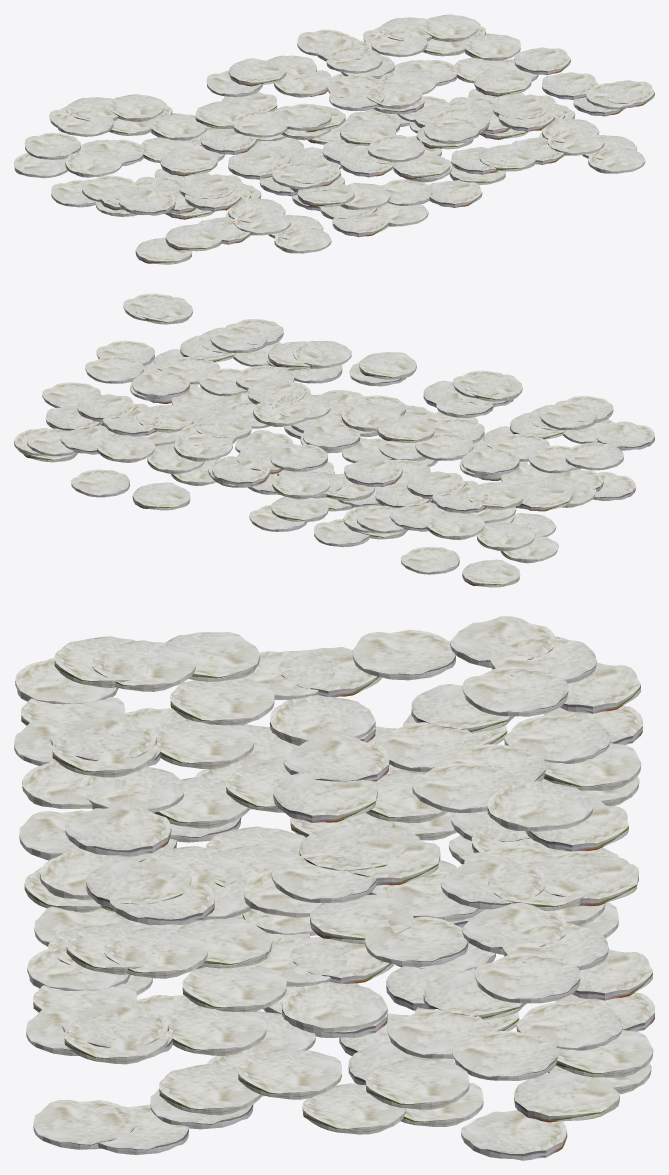
The model's file is mozzarella_hoop.glb.
The picture shows the model from 3 angles, top to bottom: view 1: azimuth 30°, elevation 25°; view 2: azimuth 150°, elevation 25°; view 3: azimuth 270°, elevation 25°; orthographic projection. The views are drawn at different scales.
Visible parts, largest first — view 1: Cylinder.082, Cylinder.124, Cylinder.077, Cylinder.129, Cylinder.009, Cylinder.068, Cylinder.020, Cylinder.075, Cylinder.013, Cylinder.080, Cylinder.120, Cylinder.022 (+79 smaller); view 2: Cylinder.129, Cylinder.028, Cylinder.009, Cylinder.077, Cylinder.067, Cylinder.095, Cylinder.068, Cylinder.096, Cylinder.020, Cylinder.086, Cylinder.087, Cylinder.085 (+77 smaller); view 3: Cylinder.020, Cylinder.068, Cylinder.129, Cylinder.122, Cylinder.130, Cylinder.022, Cylinder.124, Cylinder.120, Cylinder.114, Cylinder.082, Cylinder.029, Cylinder.003 (+92 smaller).
Boxes of the visible parts, box(x1,y1,x2,y2) form: Cylinder.082: box(65, 150, 122, 177); Cylinder.124: box(514, 47, 570, 75); Cylinder.077: box(118, 187, 175, 215); Cylinder.129: box(474, 68, 531, 96); Cylinder.009: box(160, 148, 217, 176); Cylinder.068: box(229, 58, 286, 86); Cylinder.020: box(367, 135, 424, 162); Cylinder.075: box(165, 224, 221, 251); Cylinder.013: box(233, 110, 289, 137); Cylinder.080: box(24, 132, 80, 159); Cylinder.120: box(464, 33, 520, 60); Cylinder.022: box(108, 94, 164, 121); Cylinder.129: box(132, 370, 189, 398); Cylinder.028: box(344, 459, 402, 486); Cylinder.009: box(462, 448, 519, 475); Cylinder.077: box(565, 442, 623, 470); Cylinder.067: box(272, 471, 330, 499); Cylinder.095: box(71, 469, 130, 497); Cylinder.068: box(270, 443, 327, 471); Cylinder.096: box(132, 482, 190, 510); Cylinder.020: box(359, 352, 416, 379); Cylinder.086: box(462, 559, 520, 587); Cylinder.087: box(400, 547, 459, 574); Cylinder.085: box(426, 512, 484, 539); Cylinder.020: box(65, 804, 171, 856); Cylinder.068: box(487, 781, 593, 831); Cylinder.129: box(282, 982, 387, 1032); Cylinder.122: box(474, 953, 580, 1003); Cylinder.130: box(238, 1048, 341, 1099); Cylinder.022: box(462, 666, 568, 716); Cylinder.124: box(365, 1058, 469, 1109); Cylinder.120: box(452, 1031, 557, 1080); Cylinder.114: box(514, 1071, 619, 1122); Cylinder.082: box(352, 629, 455, 680); Cylinder.029: box(273, 773, 377, 822); Cylinder.003: box(170, 677, 274, 725).
Size of the model in its own units: 2.37 by 0.2725 by 1.4.
Materials: 139 (139 with a texture image).
